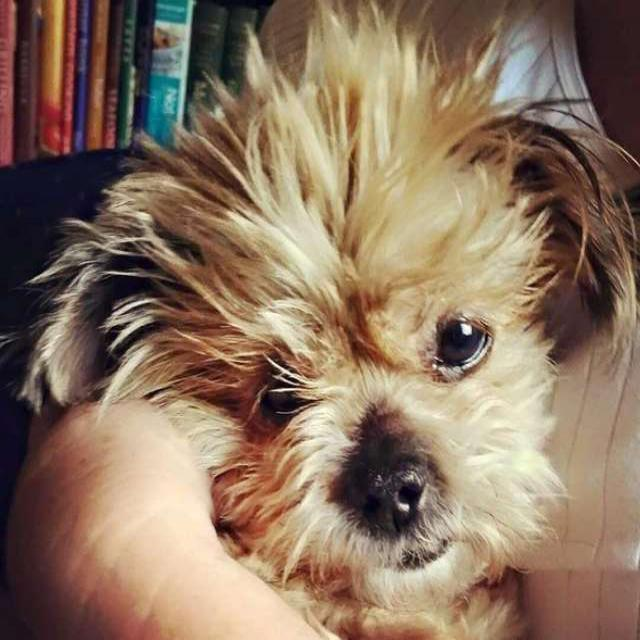eye: (433, 313, 492, 376), (263, 370, 311, 421)
